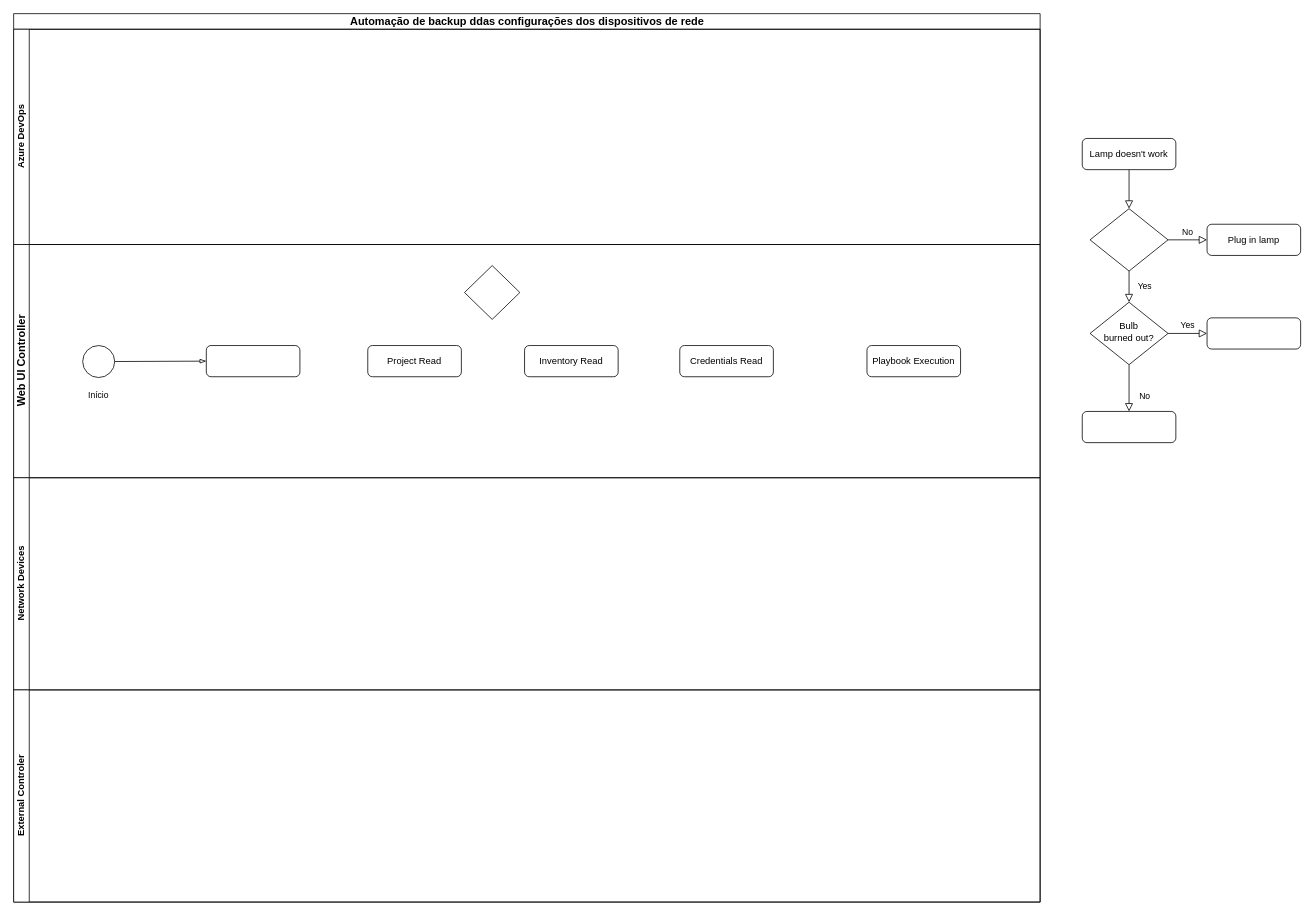
The diagram is 1314 pixels wide and 916 high, and some of its shapes have lost their labels. Each missing label, with the centre of its shape:
Lamp plugged in?: the point at 1128,239
Project Sync ?: the point at 492,292
Repair Lamp: the point at 1128,427
Replace Bulb: the point at 1253,333
Template Execution: the point at 253,361
